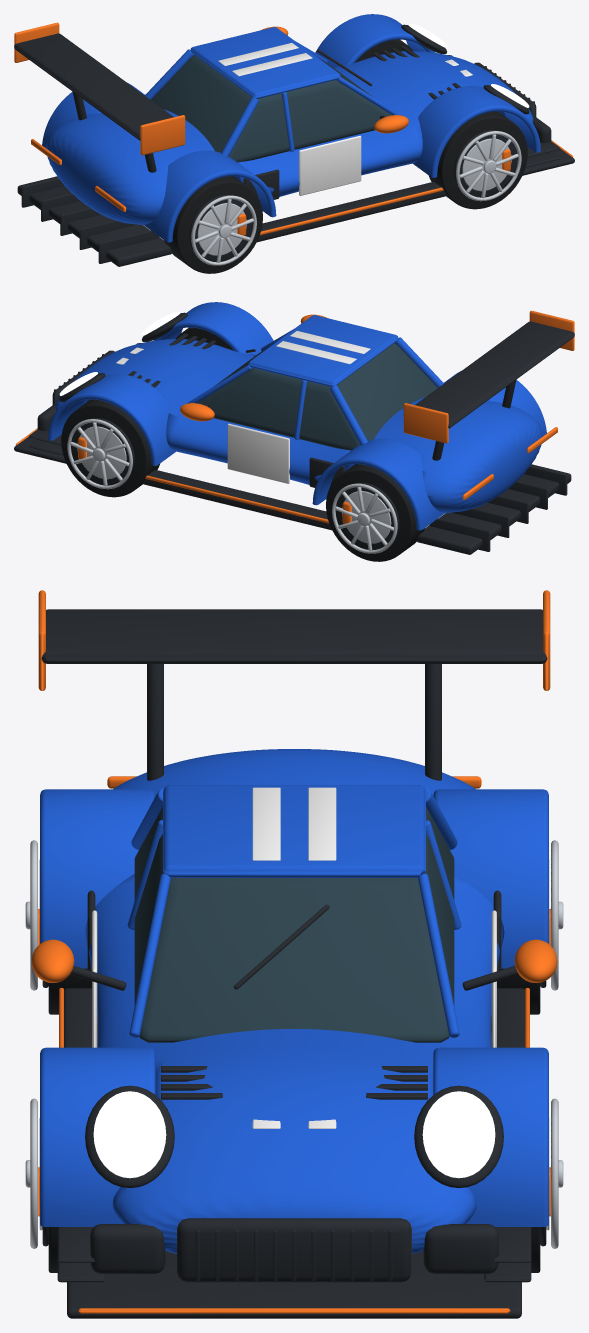
The model's file is blue.glb.
3 renders of one model, top to bottom at view 1: azimuth 30°, elevation 25°; view 2: azimuth 150°, elevation 25°; view 3: azimuth 270°, elevation 25°, orthographic. The views are drawn at different scales.
Parts seen in each view (by area): view 1: blue paint, Carbon aero.002, Smoked glazing.002, Slick tire rubber.002, Forged alloy.002, Orange accent.002, Livery white.002, LED lenses.002; view 2: blue paint, Carbon aero.002, Smoked glazing.002, Slick tire rubber.002, Forged alloy.002, Orange accent.002, Livery white.002, LED lenses.002; view 3: blue paint, Carbon aero.002, Smoked glazing.002, LED lenses.002, Orange accent.002, Livery white.002, Forged alloy.002, Slick tire rubber.002.
Boxes of the visible parts, x1,y1,x2,y2 form: blue paint: (42,14,540,242); Carbon aero.002: (14,24,574,266); Smoked glazing.002: (151,55,391,162); Slick tire rubber.002: (164,39,527,273); Forged alloy.002: (191,131,521,265); Orange accent.002: (14,22,573,235); Livery white.002: (218,43,472,195); LED lenses.002: (408,23,529,107); blue paint: (48,302,546,530); Carbon aero.002: (14,312,574,554); Smoked glazing.002: (197,343,437,450); Slick tire rubber.002: (61,327,424,561); Forged alloy.002: (67,419,397,553); Orange accent.002: (15,310,574,523); Livery white.002: (116,331,370,483); LED lenses.002: (59,311,180,395); blue paint: (40,749,548,1253); Carbon aero.002: (41,609,547,1318); Smoked glazing.002: (134,807,454,1042); LED lenses.002: (93,1091,495,1178); Orange accent.002: (31,590,557,1313); Livery white.002: (92,787,496,1128); Forged alloy.002: (25,840,563,1248); Slick tire rubber.002: (48,968,540,1272).
Bounding box in the file's own units: 4.96 × 1.74 × 2.52.
